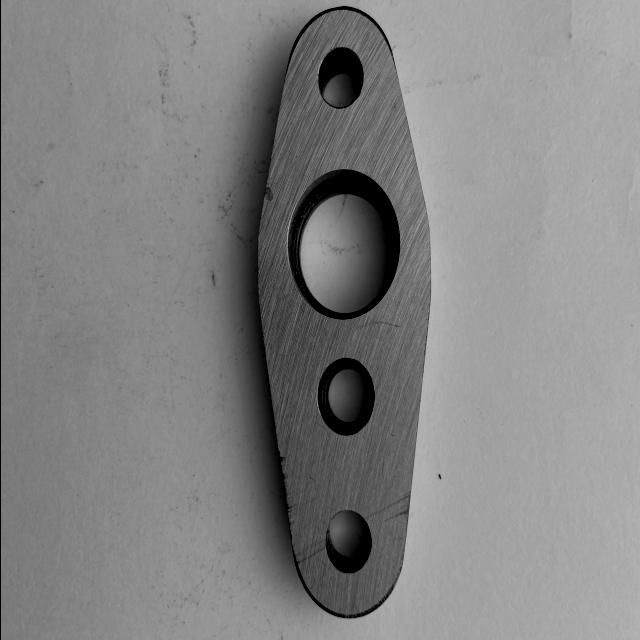lines: (367, 498, 408, 520), (294, 541, 323, 562), (352, 321, 402, 332)
